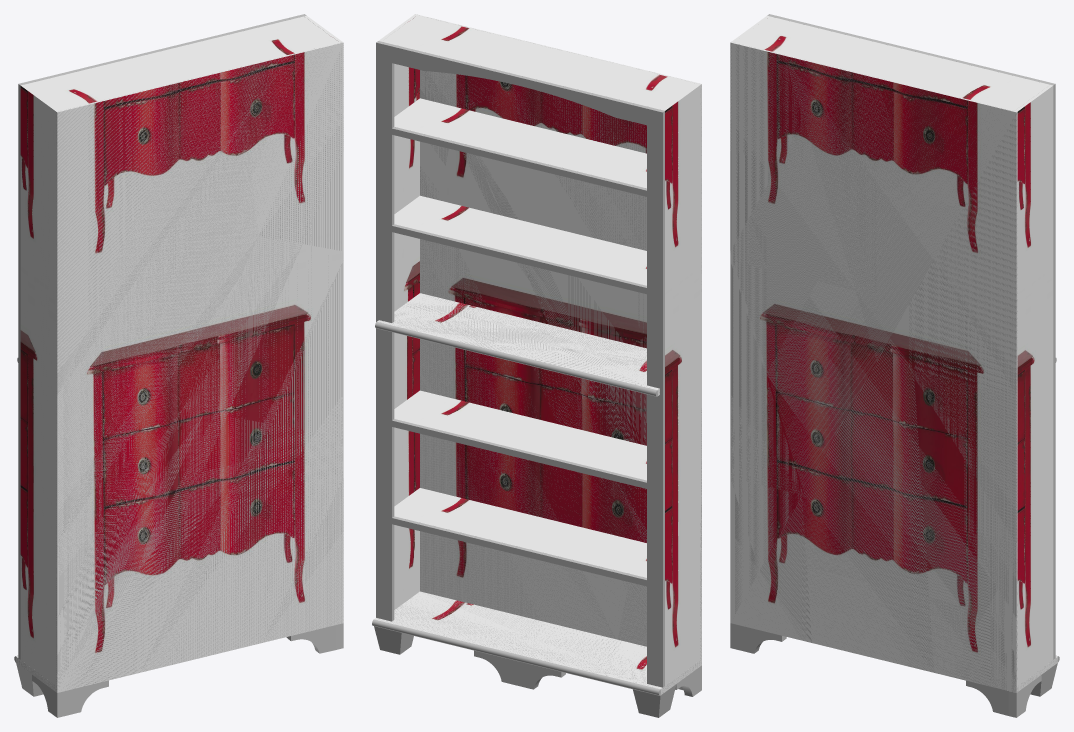
The picture shows the model from 3 angles, left to right: view 1: azimuth 30°, elevation 25°; view 2: azimuth 150°, elevation 25°; view 3: azimuth 330°, elevation 25°; orthographic projection.
Visible parts, largest first — view 1: mesh1_mesh1-geometry, mesh4_mesh4-geometry, mesh9_mesh9-geometry, mesh12_mesh12-geometry, mesh7_mesh7-geometry, mesh2_mesh2-geometry; view 2: mesh1_mesh1-geometry, mesh9_mesh9-geometry, mesh4_mesh4-geometry, mesh7_mesh7-geometry, mesh6_mesh6-geometry, mesh5_mesh5-geometry, mesh10_mesh10-geometry, mesh2_mesh2-geometry, mesh12_mesh12-geometry, mesh11_mesh11-geometry; view 3: mesh1_mesh1-geometry, mesh4_mesh4-geometry, mesh9_mesh9-geometry, mesh12_mesh12-geometry, mesh7_mesh7-geometry, mesh2_mesh2-geometry.
Boxes of the visible parts, x1,y1,x2,y2 form: mesh1_mesh1-geometry: (56, 41, 343, 692); mesh4_mesh4-geometry: (20, 15, 341, 685); mesh9_mesh9-geometry: (24, 16, 338, 110); mesh12_mesh12-geometry: (32, 623, 343, 717); mesh7_mesh7-geometry: (18, 14, 306, 659); mesh2_mesh2-geometry: (34, 18, 290, 81); mesh1_mesh1-geometry: (414, 14, 701, 665); mesh9_mesh9-geometry: (382, 15, 697, 577); mesh4_mesh4-geometry: (379, 15, 700, 685); mesh7_mesh7-geometry: (376, 41, 664, 687); mesh6_mesh6-geometry: (372, 591, 700, 695); mesh5_mesh5-geometry: (375, 293, 659, 396); mesh10_mesh10-geometry: (392, 127, 646, 586); mesh2_mesh2-geometry: (392, 45, 648, 125); mesh12_mesh12-geometry: (474, 650, 701, 696); mesh11_mesh11-geometry: (374, 626, 676, 717); mesh1_mesh1-geometry: (730, 41, 1017, 692); mesh4_mesh4-geometry: (732, 15, 1053, 685); mesh9_mesh9-geometry: (735, 16, 1049, 110); mesh12_mesh12-geometry: (730, 623, 1041, 717); mesh7_mesh7-geometry: (767, 14, 1055, 659); mesh2_mesh2-geometry: (783, 18, 1039, 81).
Bounding box in the file's own units: 0.4219 × 0.8526 × 0.1102.
